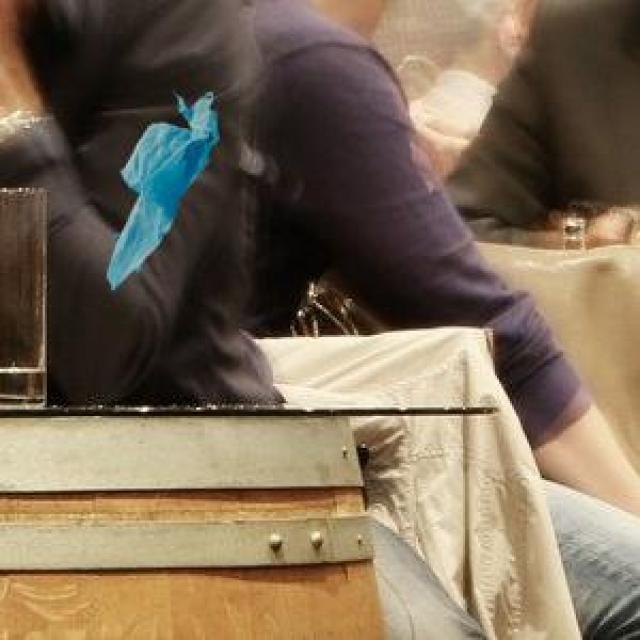waste: (106, 91, 219, 289)
